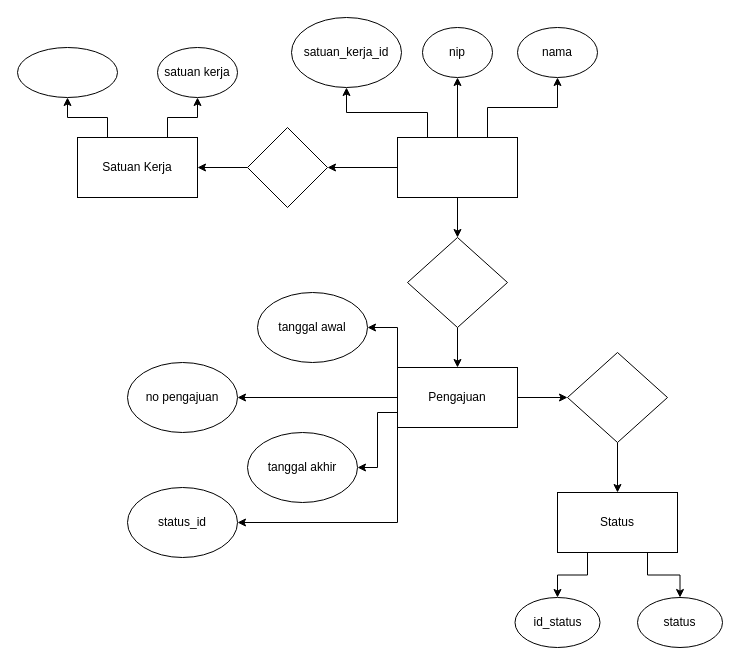
Some shapes in this 740 by 665 pixel diagram are drawn without their labels. The centre of each missing label's shape, as x and y in pixels:
"id_satuan_kerja" belongs at [67,72].
"memiliki" belongs at [287,167].
"mengajukan" belongs at [457,282].
"Pegawai" belongs at [457,167].
"terdapat" belongs at [617,397].
